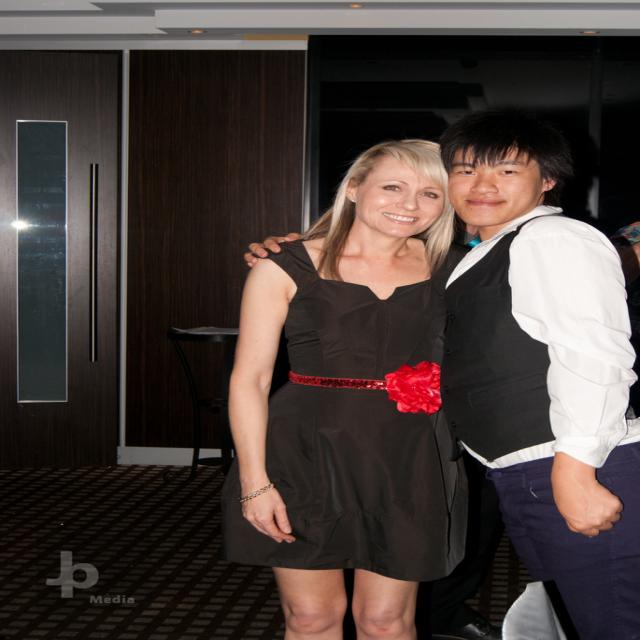no_helmet: (401, 105, 496, 203), (312, 130, 405, 219)
